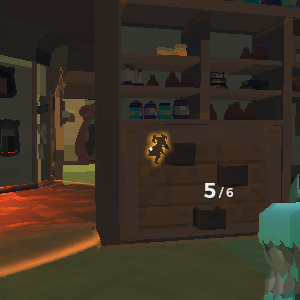model: (145, 128, 172, 168)
